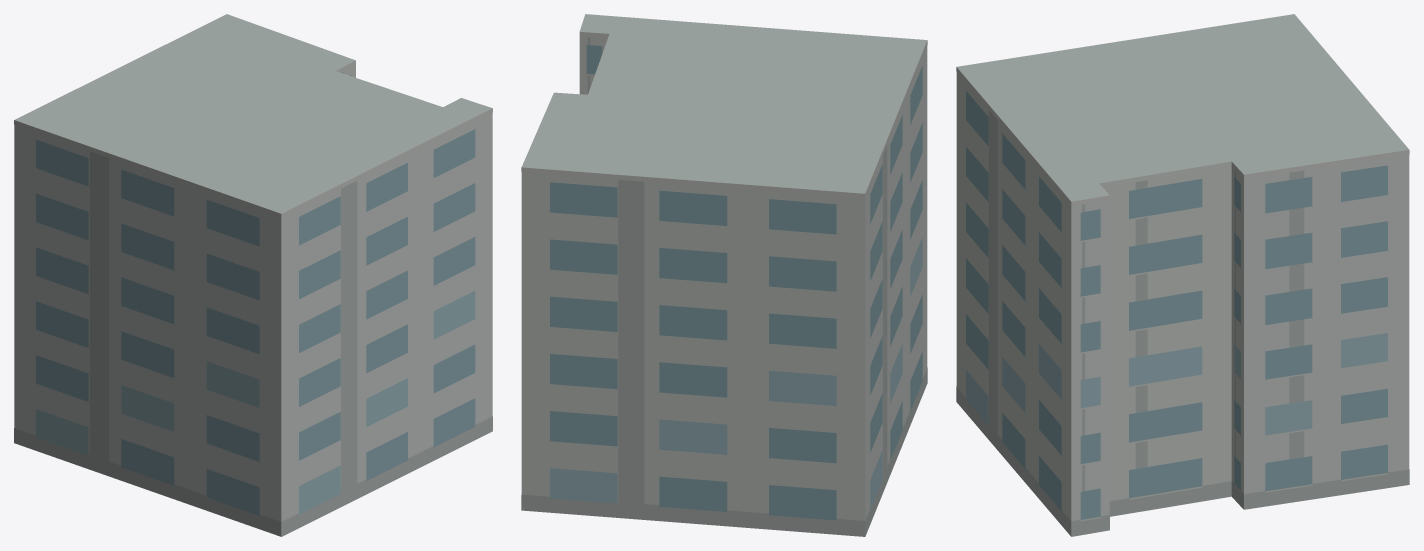
File: survey-upis-32476690.glb
3 renders of one model, left to right at view 1: azimuth 30°, elevation 25°; view 2: azimuth 150°, elevation 25°; view 3: azimuth 270°, elevation 25°, orthographic. The views are drawn at different scales.
Parts seen in each view (by area): view 1: survey-upis-32476690.tmp; view 2: survey-upis-32476690.tmp; view 3: survey-upis-32476690.tmp.
Boxes of the visible parts, bbox=[...] form: survey-upis-32476690.tmp: bbox=[14, 14, 492, 536]; survey-upis-32476690.tmp: bbox=[521, 14, 927, 536]; survey-upis-32476690.tmp: bbox=[956, 14, 1409, 536].
Size of the model in its own units: 20.69 by 17.2 by 21.08.
